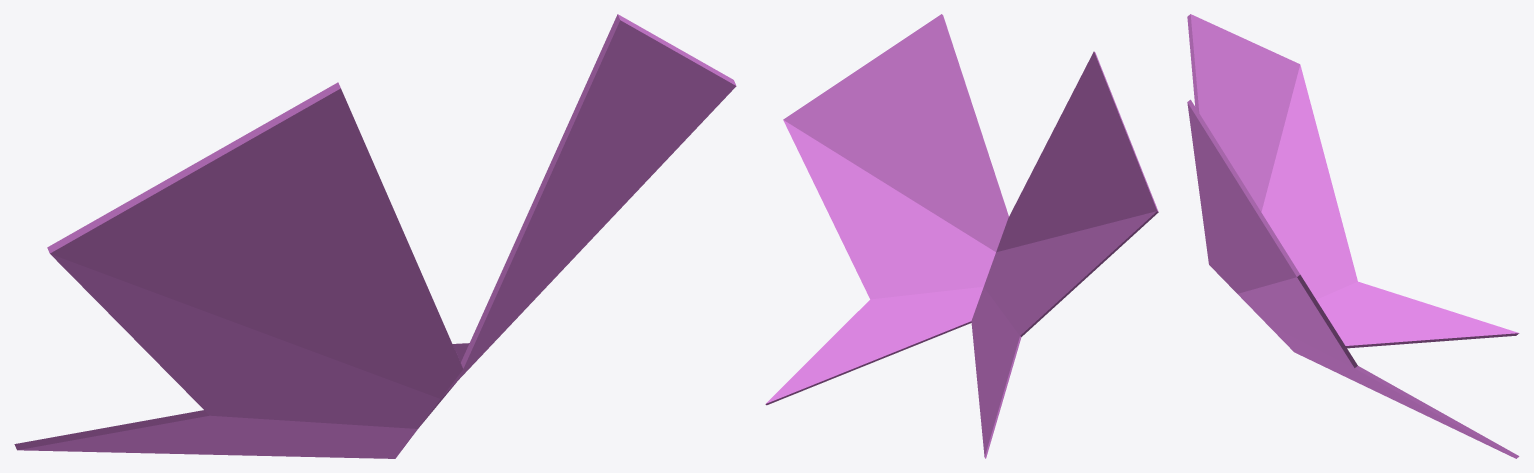
Rendered from Asset_Butterfly.fbx.
The picture shows the model from 3 angles, left to right: view 1: azimuth 30°, elevation 25°; view 2: azimuth 150°, elevation 25°; view 3: azimuth 270°, elevation 25°; orthographic projection. The views are drawn at different scales.
Parts seen in each view (by area): view 1: papillon; view 2: papillon; view 3: papillon.
Part boxes in pixels (left/top/right/bottom): papillon: left=14, top=14, right=736, bottom=458; papillon: left=765, top=14, right=1158, bottom=458; papillon: left=1187, top=14, right=1519, bottom=458.
Bounding box in the file's own units: 13.11 × 9.91 × 8.76.
